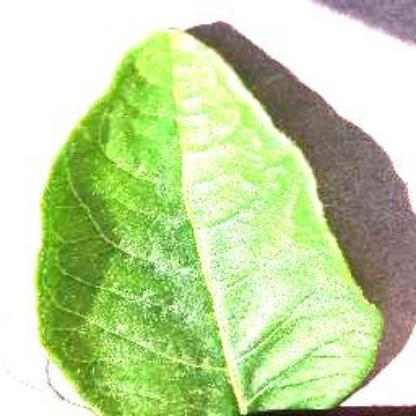Healthy-plant: (10, 48, 382, 412)
